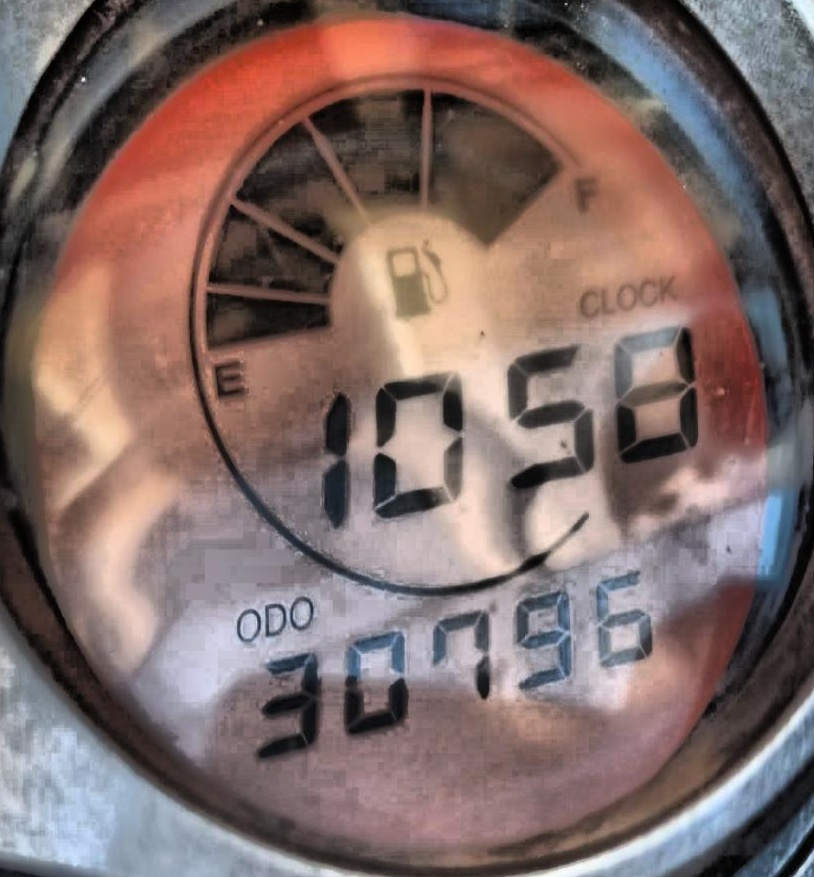0: (370, 363, 473, 529), (344, 628, 406, 736)
1: (314, 376, 355, 538)
3: (256, 652, 318, 758)
5: (502, 333, 597, 495)
6: (594, 569, 653, 670)
7: (431, 607, 490, 699)
8: (614, 323, 705, 471)
9: (514, 589, 572, 690)
X: (207, 354, 247, 402), (572, 171, 608, 215), (236, 605, 261, 642), (263, 601, 287, 637), (290, 594, 314, 630), (577, 287, 599, 320), (657, 271, 679, 303), (637, 275, 657, 309), (618, 280, 637, 313), (600, 283, 617, 318)
